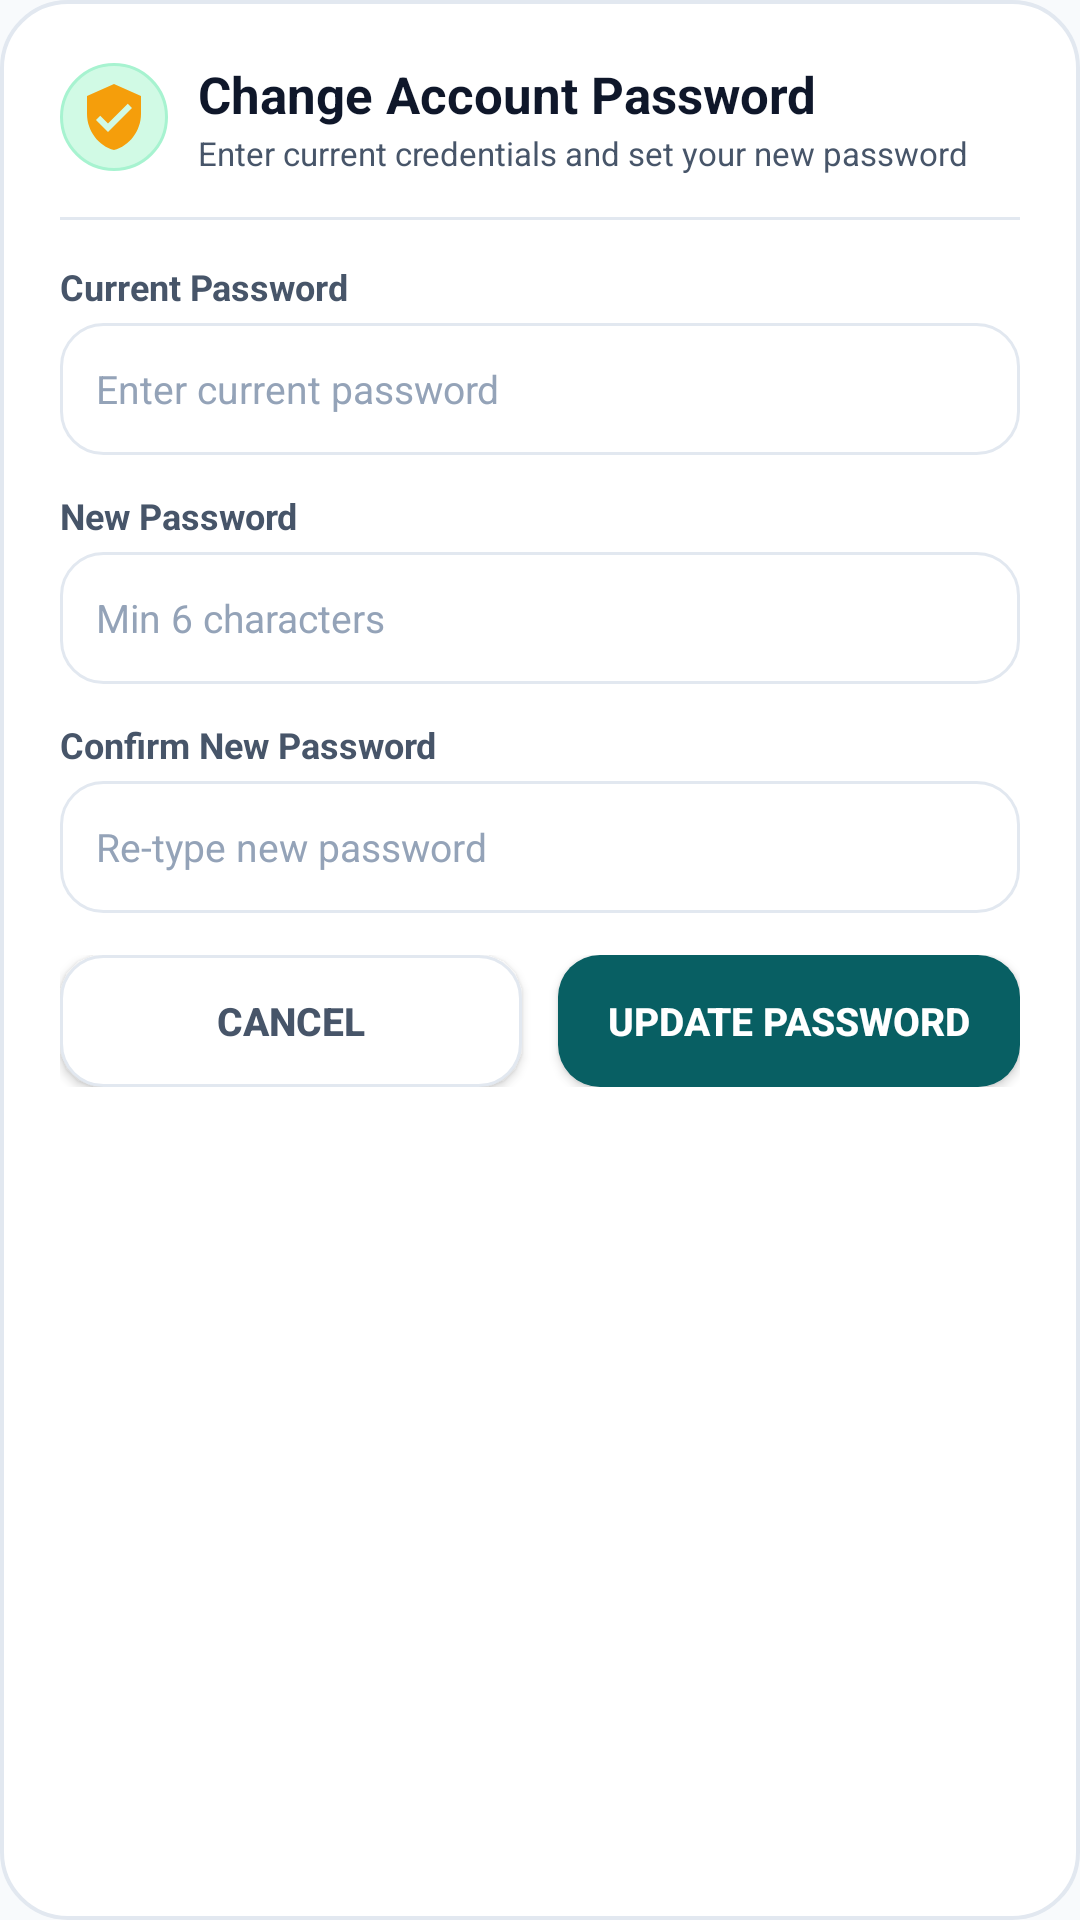

Icons on this 1080px×1920px Android screen, each with the point to tap as (x=x, y=y):
Security: (x=114, y=117)
